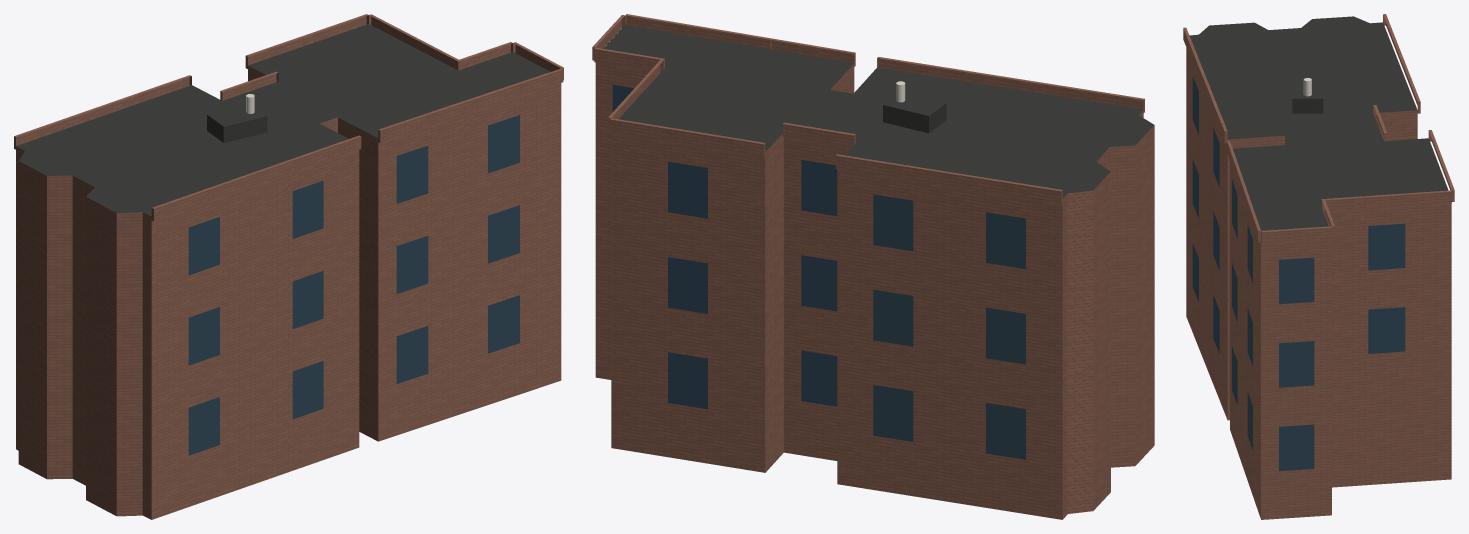
3 renders of one model, left to right at view 1: azimuth 30°, elevation 25°; view 2: azimuth 150°, elevation 25°; view 3: azimuth 270°, elevation 25°, orthographic. The views are drawn at different scales.
Visible parts, largest first — view 1: Footprint 0 / surface 2, Footprint 0 / surface 1, Inset glazing, Facade bay volumes, Inferred rooftop service enclosure / surface 5, Inferred rooftop service enclosure / surface 3; view 2: Footprint 0 / surface 2, Footprint 0 / surface 1, Inset glazing, Facade bay volumes, Inferred rooftop service enclosure / surface 6, Inferred rooftop service enclosure / surface 3; view 3: Footprint 0 / surface 2, Footprint 0 / surface 1, Inset glazing, Facade bay volumes, Inferred rooftop service enclosure / surface 1, Inferred rooftop service enclosure / surface 3.
Part boxes in pixels (x1,y1,x2,y2): Footprint 0 / surface 2: [16, 66, 561, 519]; Footprint 0 / surface 1: [16, 24, 550, 216]; Inset glazing: [188, 115, 519, 455]; Facade bay volumes: [14, 14, 563, 221]; Inferred rooftop service enclosure / surface 5: [223, 116, 267, 142]; Inferred rooftop service enclosure / surface 3: [207, 105, 266, 126]; Footprint 0 / surface 2: [595, 62, 1154, 519]; Footprint 0 / surface 1: [603, 24, 1153, 198]; Inset glazing: [612, 85, 1025, 459]; Facade bay volumes: [592, 14, 1144, 204]; Inferred rooftop service enclosure / surface 6: [883, 105, 928, 133]; Inferred rooftop service enclosure / surface 3: [883, 93, 946, 115]; Footprint 0 / surface 2: [1186, 48, 1451, 519]; Footprint 0 / surface 1: [1189, 16, 1448, 230]; Inset glazing: [1192, 76, 1405, 471]; Facade bay volumes: [1183, 14, 1454, 243]; Inferred rooftop service enclosure / surface 1: [1292, 98, 1323, 113]; Inferred rooftop service enclosure / surface 3: [1292, 79, 1323, 98].
Bounding box in the file's own units: 20.54 × 13.31 × 10.52.
